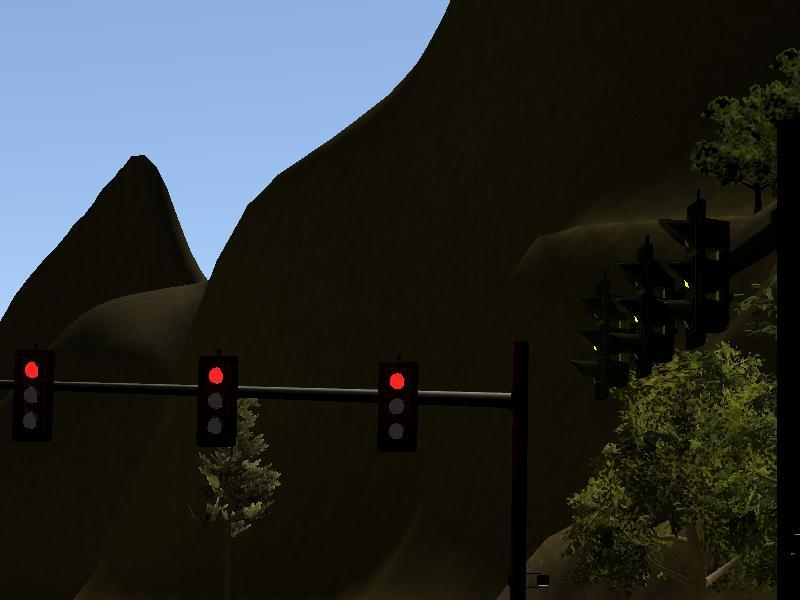Red: (10, 350, 51, 442), (376, 359, 417, 451), (195, 356, 236, 448)
